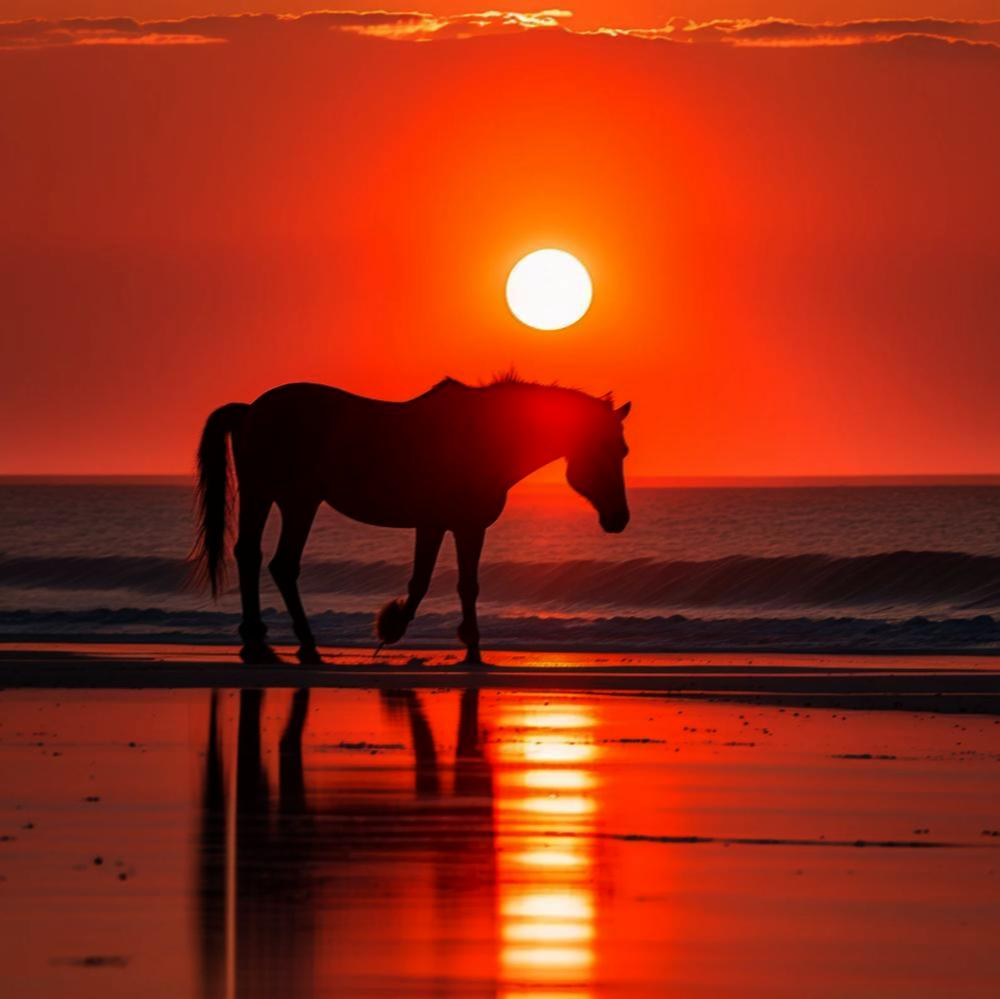horse: (180, 368, 631, 666)
